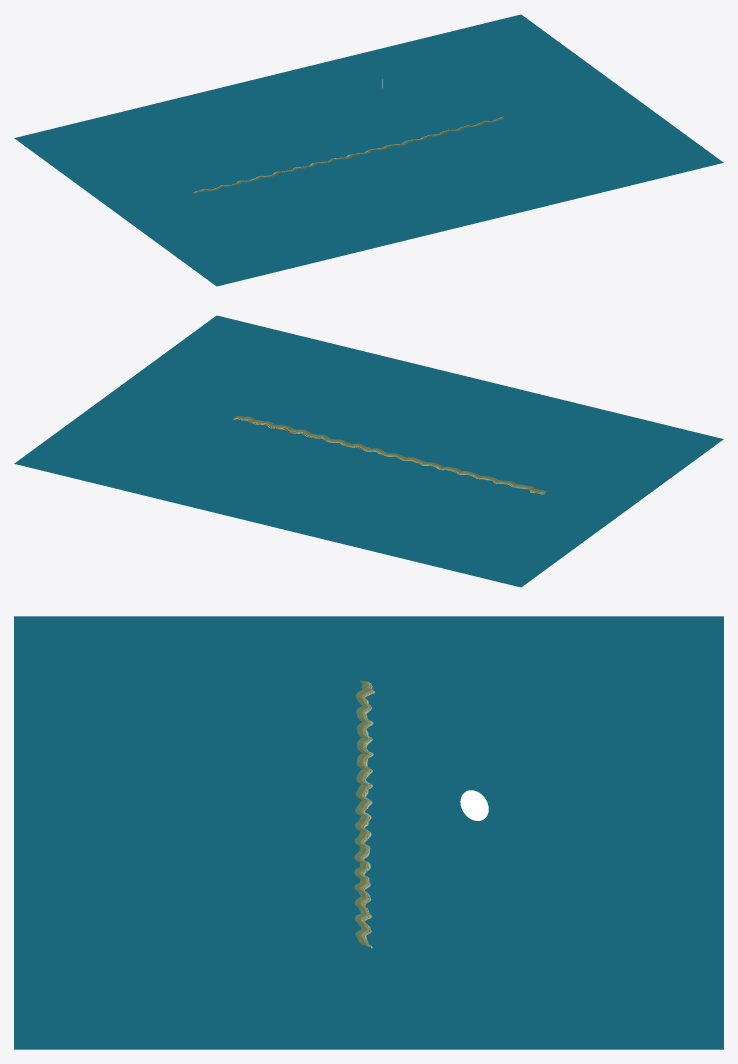
The model's file is algarve.glb.
3 views of the same model, one above another, from view 1: azimuth 30°, elevation 25°; view 2: azimuth 150°, elevation 25°; view 3: azimuth 270°, elevation 25° (orthographic). The views are drawn at different scales.
Parts seen in each view (by area): view 1: Sea; view 2: Sea; view 3: Sea, Sun.
Part boxes in pixels (x1,y1,x2,y2): Sea: (14,14,723,286); Sea: (14,315,723,587); Sea: (14,616,723,1049); Sun: (460,790,488,820).
Size of the model in its own units: 26000 by 2241 by 18000.
